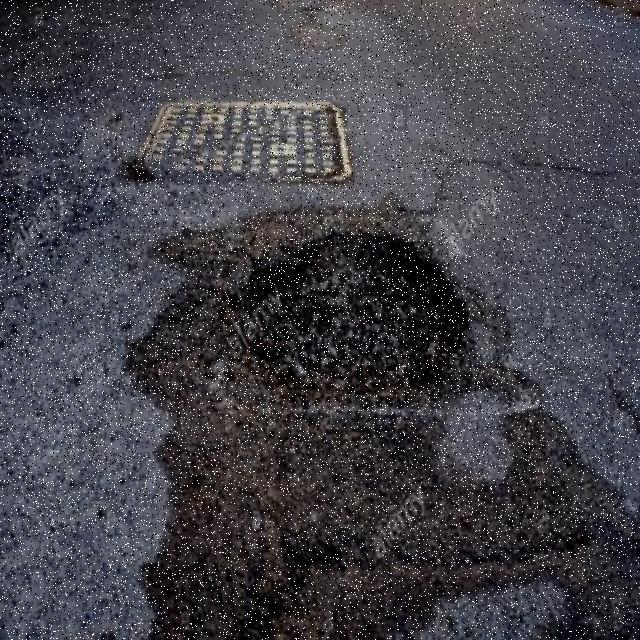Pothole: (222, 228, 468, 406)
